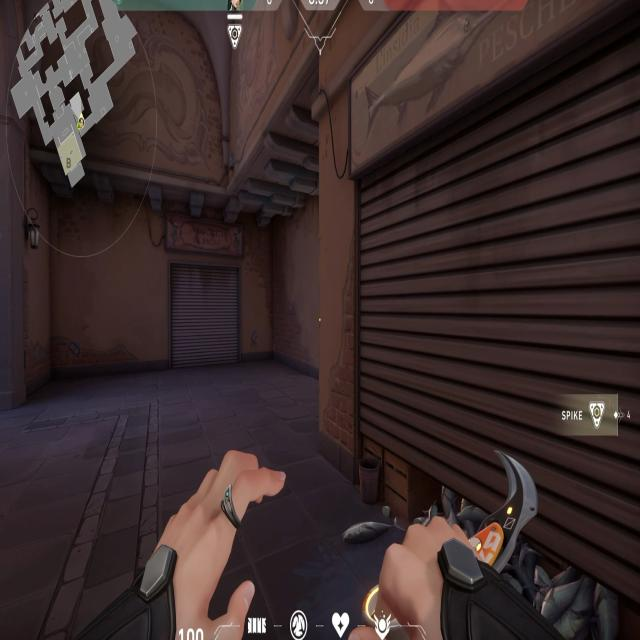B_Main_Corner: (309, 74, 640, 632)
